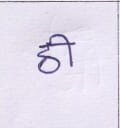i_matra: (50, 34, 76, 67)
